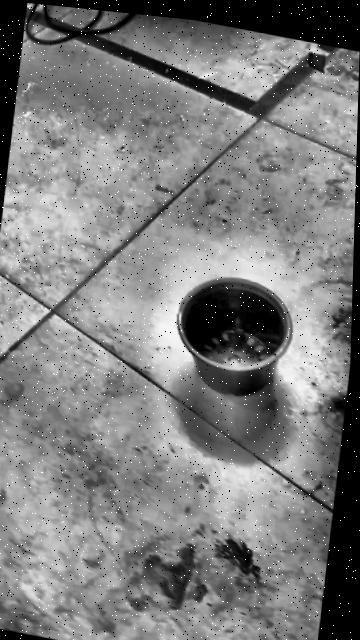pot: (170, 267, 298, 406)
